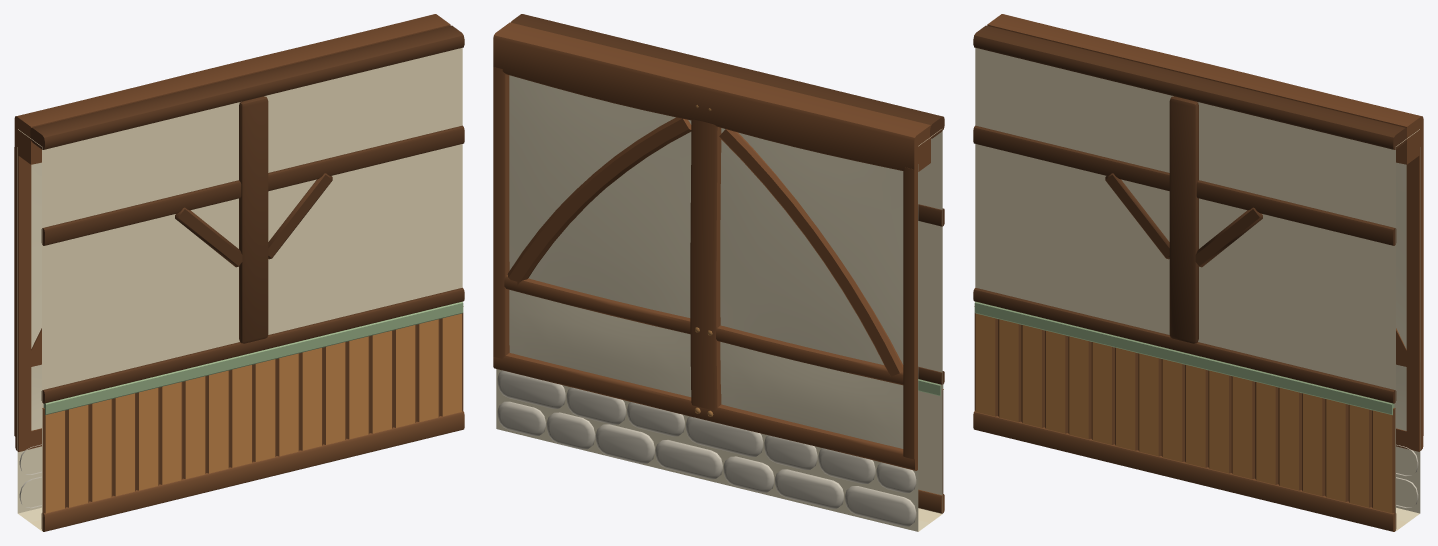
Rendered from ZoneKitWall_v2.fbx.
The picture shows the model from 3 angles, left to right: view 1: azimuth 30°, elevation 25°; view 2: azimuth 150°, elevation 25°; view 3: azimuth 330°, elevation 25°; orthographic projection.
Parts seen in each view (by area): view 1: ZoneKitWall_v2; view 2: ZoneKitWall_v2; view 3: ZoneKitWall_v2.
Part boxes in pixels (x1=…): ZoneKitWall_v2: x1=14, y1=14, x2=464, y2=531; ZoneKitWall_v2: x1=493, y1=14, x2=944, y2=531; ZoneKitWall_v2: x1=973, y1=14, x2=1423, y2=531.
Size of the model in its own units: 3 by 2.7 by 0.395.
